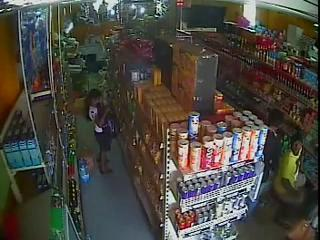shoplifting: (88, 100, 120, 174)
